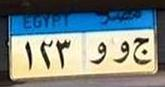1: (25, 39, 33, 73)
2: (39, 38, 53, 71)
3: (56, 39, 75, 73)
jeem: (131, 35, 156, 67)
waw: (90, 41, 110, 65), (112, 40, 130, 64)
